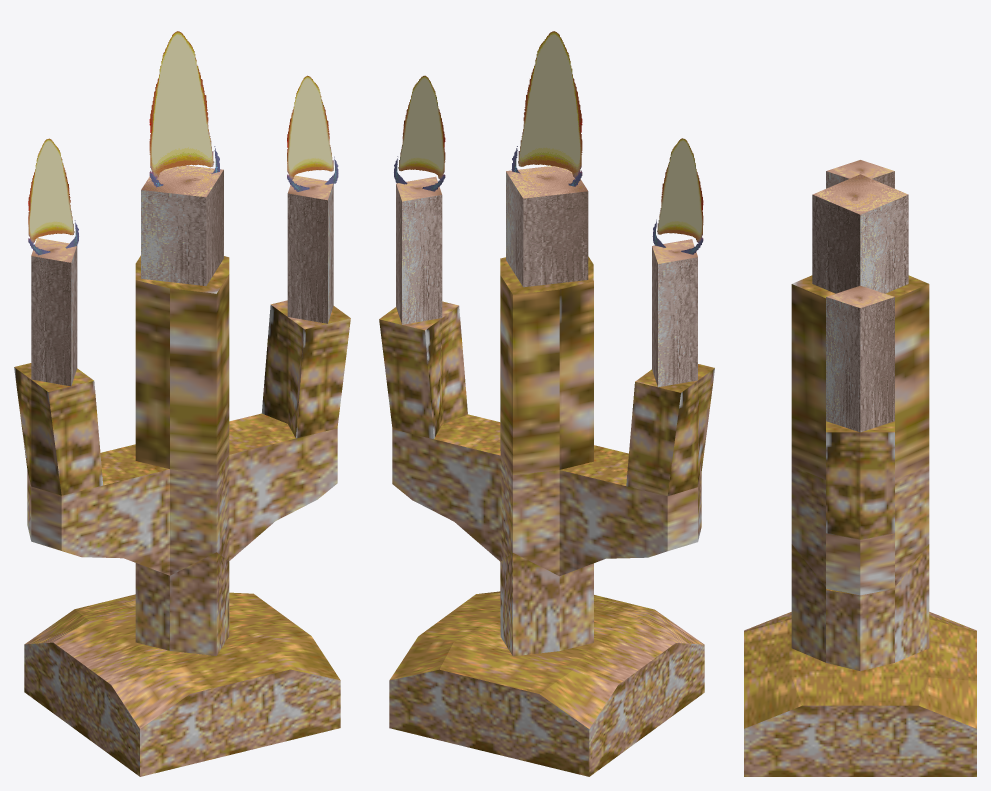
Rendered from candle.fbx.
The picture shows the model from 3 angles, left to right: view 1: azimuth 30°, elevation 25°; view 2: azimuth 150°, elevation 25°; view 3: azimuth 270°, elevation 25°; orthographic projection.
Parts seen in each view (by area): view 1: candle; view 2: candle; view 3: candle.
Part boxes in pixels (box(x1,y1,x2,y2)): candle: box(14, 31, 350, 776); candle: box(379, 31, 714, 776); candle: box(744, 160, 976, 776).
Size of the model in its own units: 20.24 by 40.16 by 12.18.
